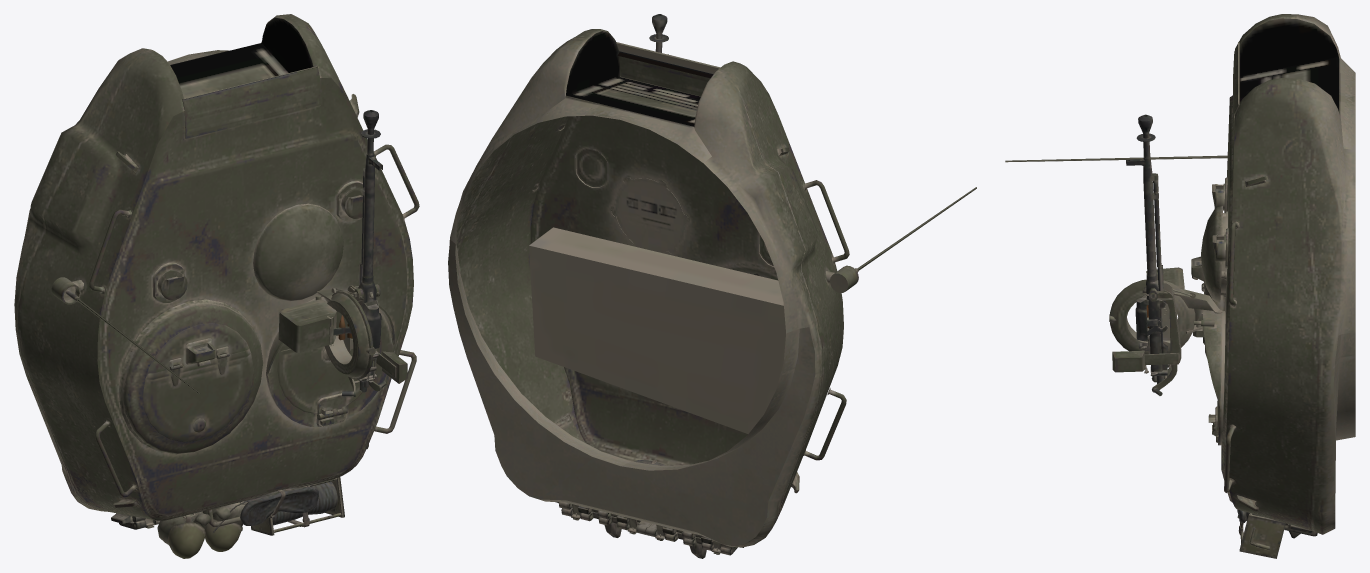
The model's file is Turret_01.glb.
3 renders of one model, left to right at view 1: azimuth 30°, elevation 25°; view 2: azimuth 150°, elevation 25°; view 3: azimuth 270°, elevation 25°, orthographic. The views are drawn at different scales.
Visible parts, largest first — view 1: set_0_group_0; view 2: set_0_group_0; view 3: set_0_group_0.
Part boxes in pixels (<box>): set_0_group_0: <box>14,14,419,558</box>; set_0_group_0: <box>448,14,976,558</box>; set_0_group_0: <box>1005,14,1355,558</box>.
Bounding box in the file's own units: 2.22 × 2.83 × 1.9.
Materials: 1 (1 with a texture image).
